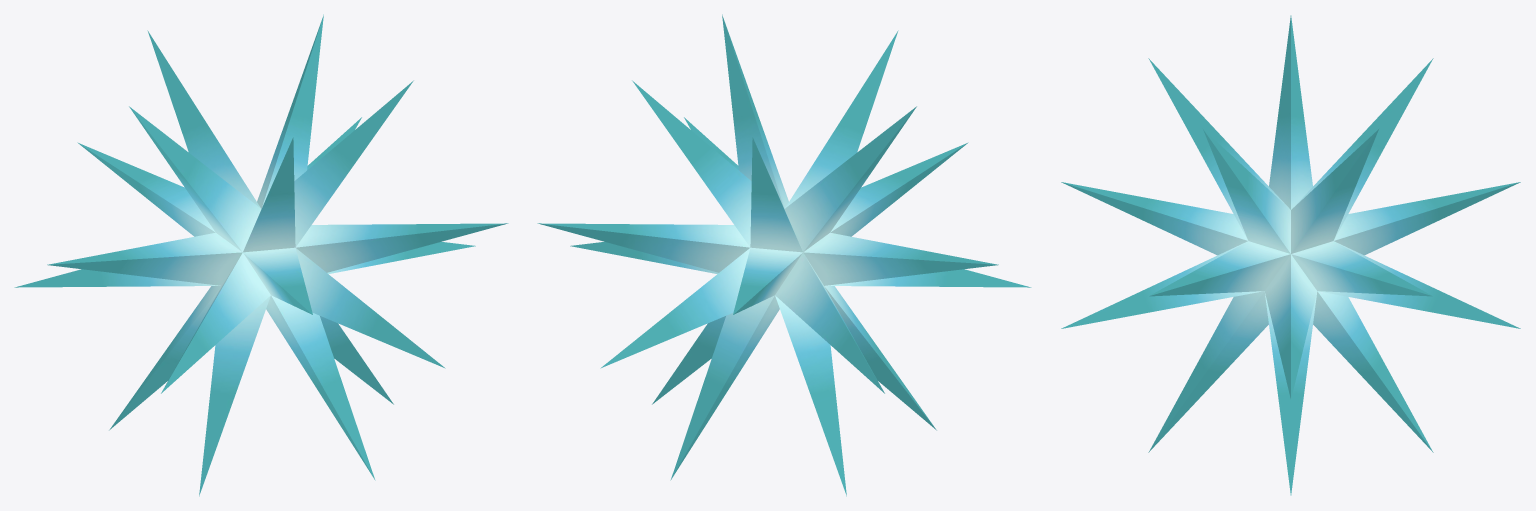
The model's file is blue_star.glb.
3 views of the same model, side by side, from view 1: azimuth 30°, elevation 25°; view 2: azimuth 150°, elevation 25°; view 3: azimuth 270°, elevation 25° (orthographic). The views are drawn at different scales.
Visible parts, largest first — view 1: Icosphere; view 2: Icosphere; view 3: Icosphere.
Boxes of the visible parts, left/top/right/bottom form: Icosphere: left=14, top=14, right=508, bottom=496; Icosphere: left=537, top=14, right=1031, bottom=496; Icosphere: left=1061, top=15, right=1520, bottom=495.
Size of the model in its own units: 0.4633 by 0.3748 by 0.4406.
1 material, 1 textured.
